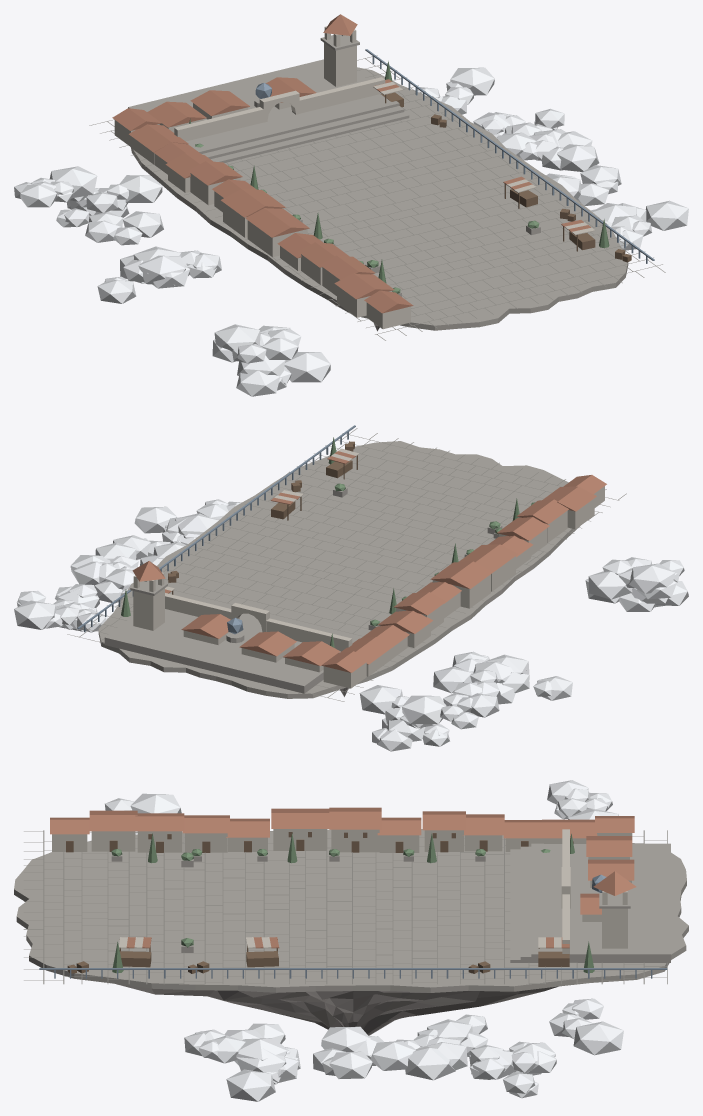
File: ascent.glb
The picture shows the model from 3 angles, top to bottom: view 1: azimuth 30°, elevation 25°; view 2: azimuth 150°, elevation 25°; view 3: azimuth 270°, elevation 25°; orthographic projection. The views are drawn at different scales.
Parts seen in each view (by area): view 1: Static, Cloud_14, Cloud_10, Cloud_08, Cloud_05, Cloud_16, Cloud_00, Cloud_13, Cloud_11, Cloud_06, Cloud_03, Cloud_04 (+5 smaller); view 2: Static, Cloud_08, Cloud_11, Cloud_03, Cloud_10, Cloud_12, Cloud_02, Cloud_16, Cloud_06, Cloud_00, Cloud_14, Cloud_17 (+6 smaller); view 3: Static, Cloud_13, Cloud_03, Cloud_11, Cloud_05, Cloud_09, Cloud_08, Cloud_17, Cloud_01, Cloud_07, Cloud_15, Cloud_06.
Boxes of the visible parts, x1,y1,x2,y2 form: Static: (89, 14, 665, 340); Cloud_14: (236, 352, 330, 396); Cloud_10: (123, 246, 221, 285); Cloud_08: (14, 166, 97, 207); Cloud_05: (519, 131, 599, 171); Cloud_16: (85, 211, 163, 245); Cloud_00: (70, 175, 162, 212); Cloud_13: (546, 165, 621, 205); Cloud_11: (415, 67, 494, 114); Cloud_06: (214, 324, 301, 363); Cloud_03: (590, 200, 688, 230); Cloud_04: (97, 255, 189, 303); Static: (67, 425, 626, 701); Cloud_08: (402, 693, 499, 729); Cloud_11: (14, 600, 108, 632); Cloud_03: (134, 506, 218, 544); Cloud_10: (452, 651, 529, 692); Cloud_12: (372, 718, 449, 751); Cloud_02: (588, 557, 679, 599); Cloud_16: (433, 666, 500, 697); Cloud_06: (602, 559, 684, 593); Cloud_00: (359, 685, 433, 729); Cloud_14: (585, 579, 688, 611); Cloud_17: (74, 561, 134, 597); Static: (14, 807, 688, 1035); Cloud_13: (313, 1026, 383, 1078); Cloud_03: (226, 1038, 300, 1101); Cloud_11: (549, 998, 623, 1055); Cloud_05: (370, 1029, 455, 1080); Cloud_09: (503, 1041, 556, 1098); Cloud_08: (547, 780, 618, 819); Cloud_17: (419, 1014, 487, 1070); Cloud_01: (461, 1031, 516, 1079); Cloud_07: (224, 1023, 286, 1084); Cloud_15: (184, 1029, 245, 1063); Cloud_06: (105, 793, 181, 834).
Size of the model in its own units: 37.44 by 14.45 by 38.68.
